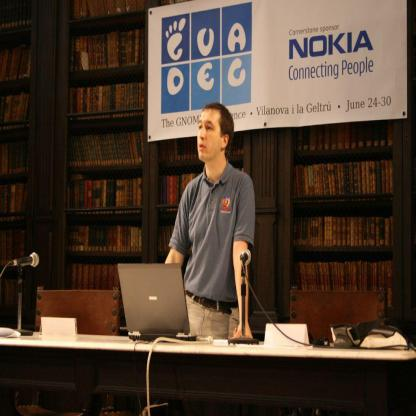board: (109, 266, 189, 345)
